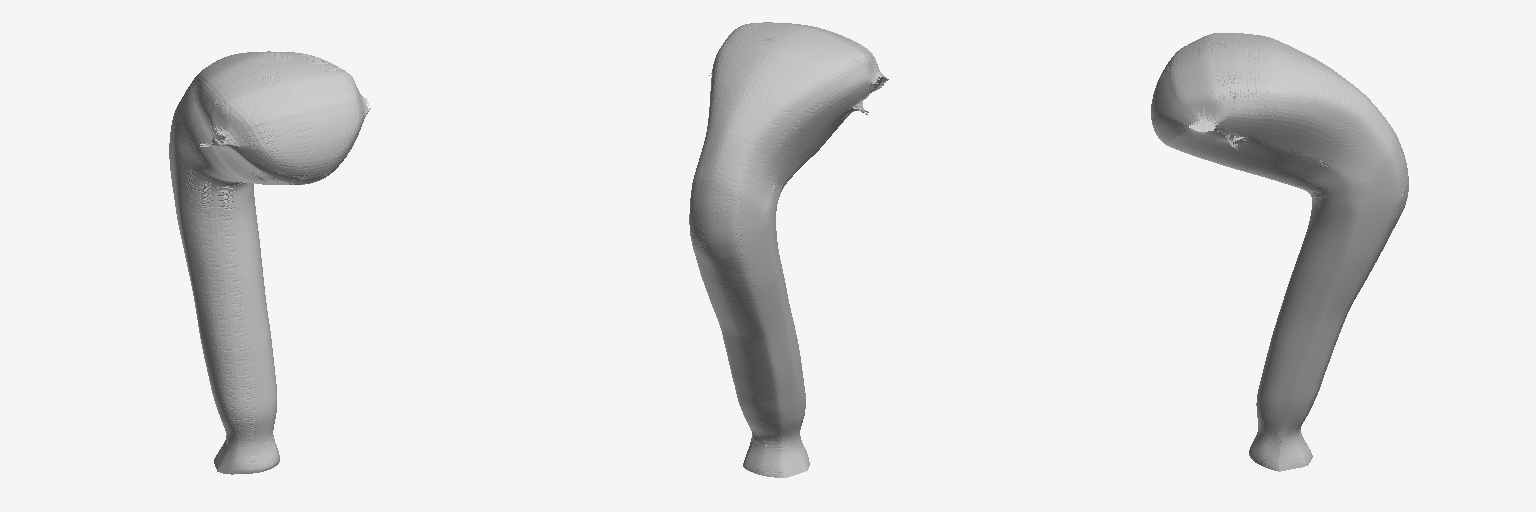
File: meshuteromedio.obj
The picture shows the model from 3 angles: view 1: azimuth 30°, elevation 25°; view 2: azimuth 150°, elevation 25°; view 3: azimuth 270°, elevation 25°; orthographic projection.
Visible parts, largest first — view 1: Uterus-Whole.001; view 2: Uterus-Whole.001; view 3: Uterus-Whole.001.
Part boxes in pixels (bbox=[...]): Uterus-Whole.001: bbox=[169, 51, 370, 474]; Uterus-Whole.001: bbox=[689, 22, 888, 477]; Uterus-Whole.001: bbox=[1151, 33, 1408, 471].
Bounding box in the file's own units: 2.05 × 5.01 × 2.84.